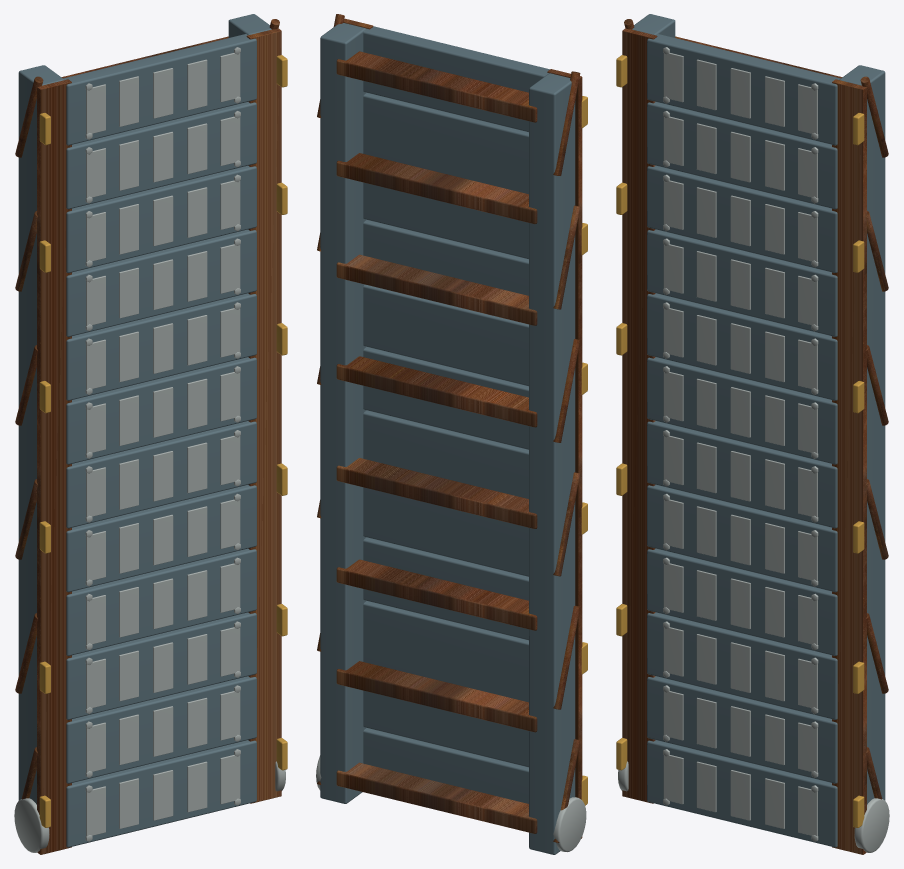
The model's file is terrain-bridge-folded.glb.
3 renders of one model, left to right at view 1: azimuth 30°, elevation 25°; view 2: azimuth 150°, elevation 25°; view 3: azimuth 330°, elevation 25°, orthographic.
Parts seen in each view (by area): view 1: terrain-bridge-folded; view 2: terrain-bridge-folded; view 3: terrain-bridge-folded.
Part boxes in pixels (x1,y1,x2,y2): terrain-bridge-folded: (14, 14, 287, 854); terrain-bridge-folded: (316, 14, 587, 854); terrain-bridge-folded: (616, 14, 889, 854).
Size of the model in its own units: 2.01 by 6.09 by 0.455.
Materials: 4 (1 with a texture image).
